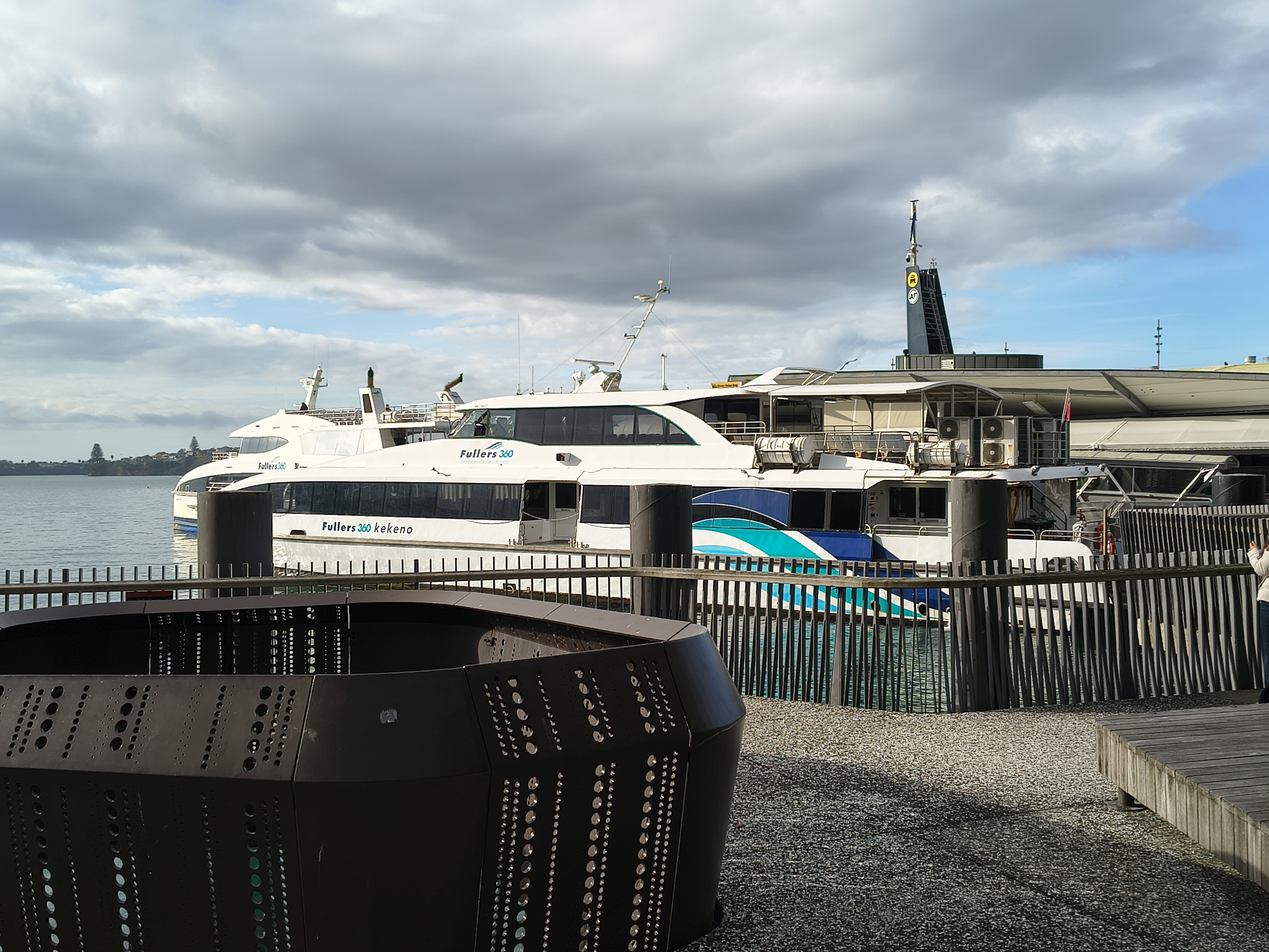ferry: (211, 366, 1111, 635), (172, 368, 471, 548)
